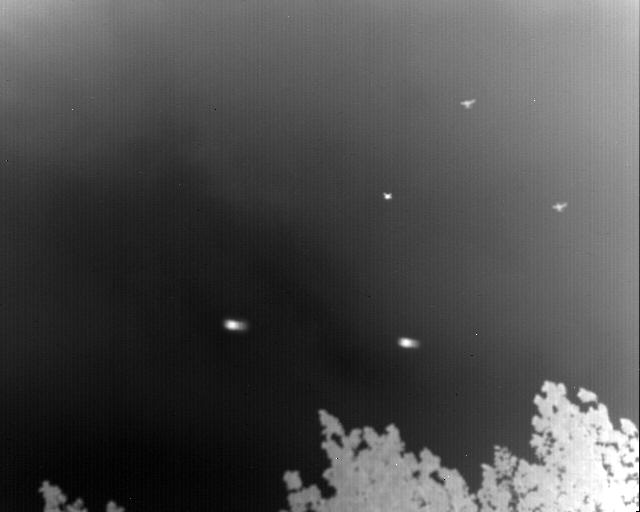plane: (552, 201, 567, 212), (460, 99, 476, 108), (383, 192, 392, 200)
